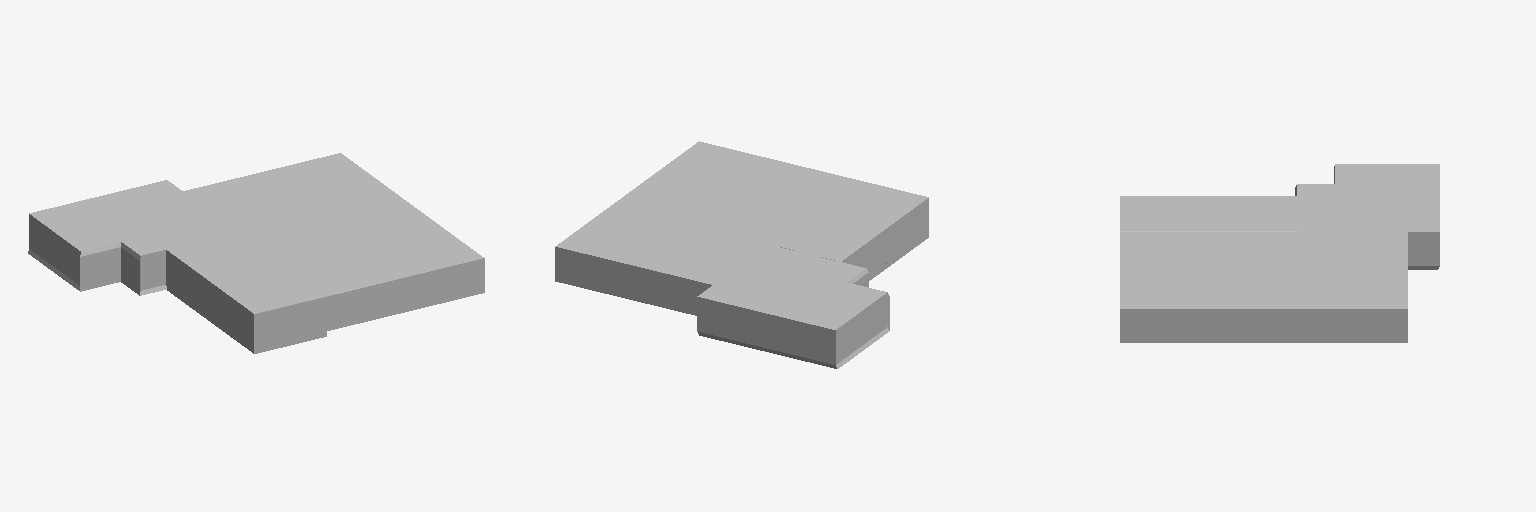
File: floor.obj
3 renders of one model, left to right at view 1: azimuth 30°, elevation 25°; view 2: azimuth 150°, elevation 25°; view 3: azimuth 270°, elevation 25°, orthographic.
Visible parts, largest first — view 1: Cube; view 2: Cube; view 3: Cube.
Boxes of the visible parts, <box> form: Cube: <box>28,153,484,353</box>; Cube: <box>555,141,928,368</box>; Cube: <box>1120,164,1439,342</box>.
Bounding box in the file's own units: 17.86 × 2.3 × 16.59.